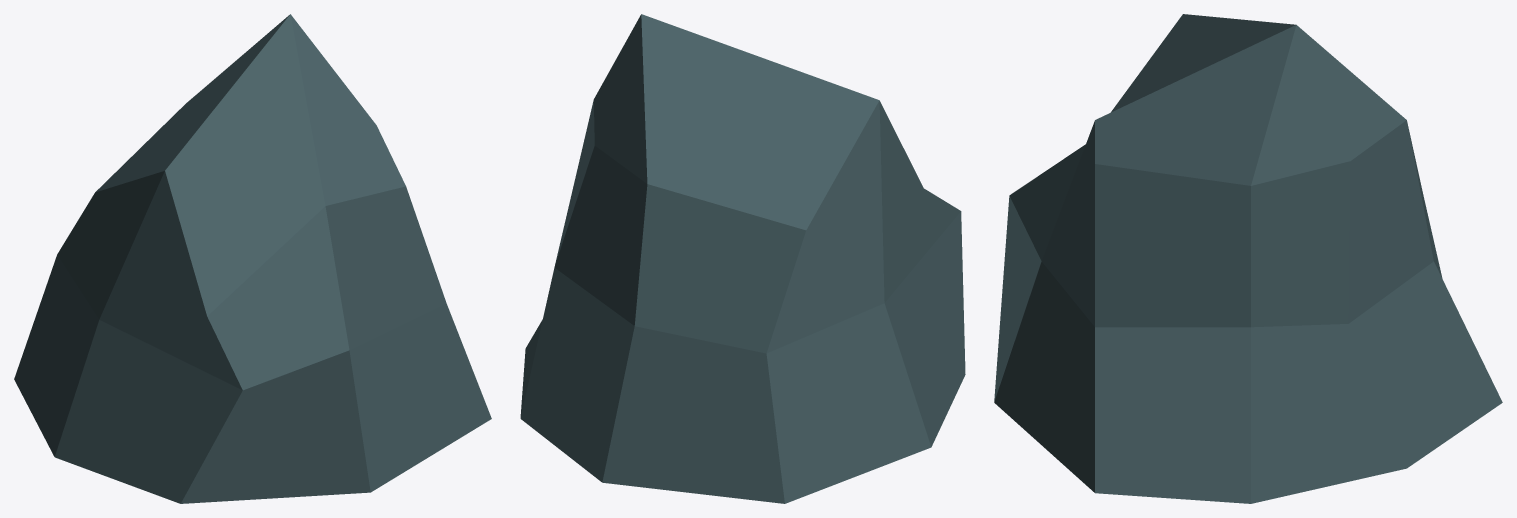
The model's file is Rock.fbx.
3 renders of one model, left to right at view 1: azimuth 30°, elevation 25°; view 2: azimuth 150°, elevation 25°; view 3: azimuth 270°, elevation 25°, orthographic. The views are drawn at different scales.
Parts seen in each view (by area): view 1: Cube; view 2: Cube; view 3: Cube.
Boxes of the visible parts, <box> form: Cube: <box>14,14,491,503</box>; Cube: <box>520,14,965,503</box>; Cube: <box>994,14,1502,503</box>.
Bounding box in the file's own units: 320 × 289 × 326.
